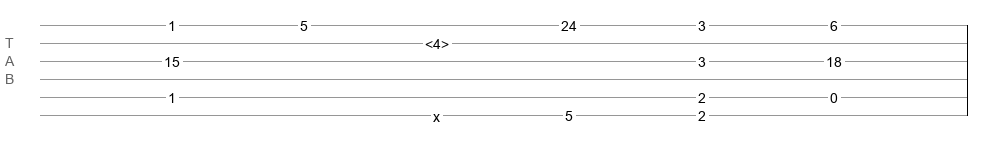0: (830, 90, 838, 100)
1: (168, 90, 176, 100), (168, 18, 176, 28)
15: (164, 54, 180, 64)
18: (826, 54, 842, 64)
2: (698, 108, 706, 118), (698, 90, 706, 100)
24: (561, 18, 577, 28)
3: (698, 18, 706, 28), (698, 54, 706, 64)
5: (300, 18, 308, 28), (565, 108, 573, 118)
6: (830, 18, 838, 28)
harmonic: (425, 36, 449, 46)
x: (433, 109, 440, 117)
